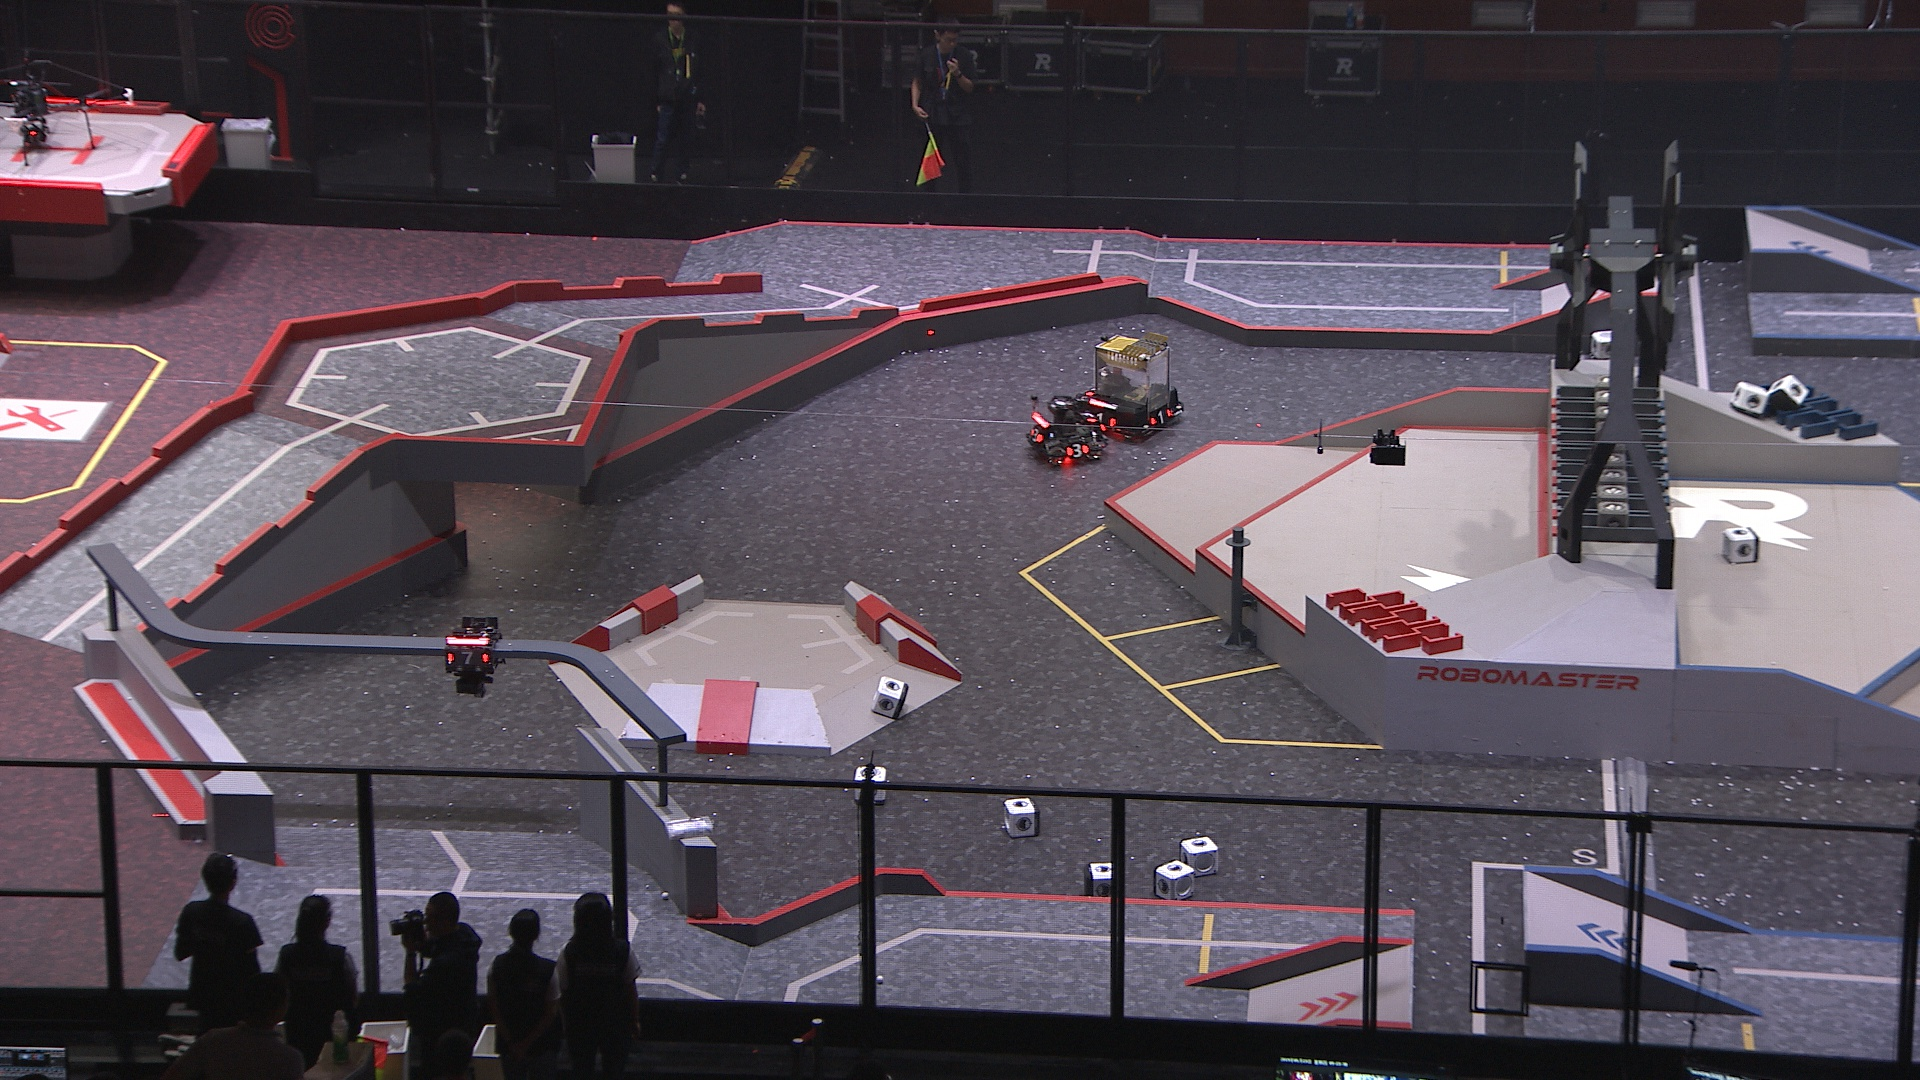armor: (444, 646, 491, 669), (1088, 405, 1116, 429), (1149, 406, 1174, 429), (1064, 440, 1088, 462), (1026, 425, 1046, 444)
car: (1077, 327, 1187, 440), (1025, 389, 1120, 471)
watcher: (439, 615, 508, 698)
